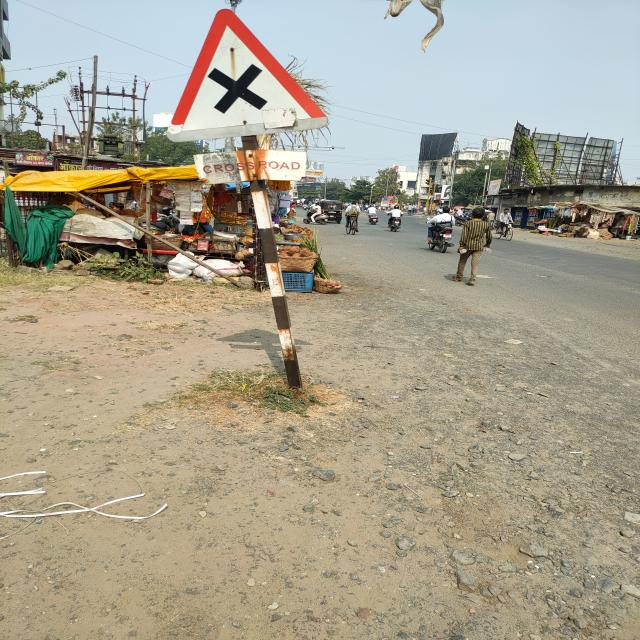cross_road: (166, 8, 328, 144)
